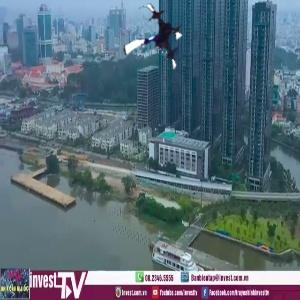drone: (117, 4, 194, 81)
